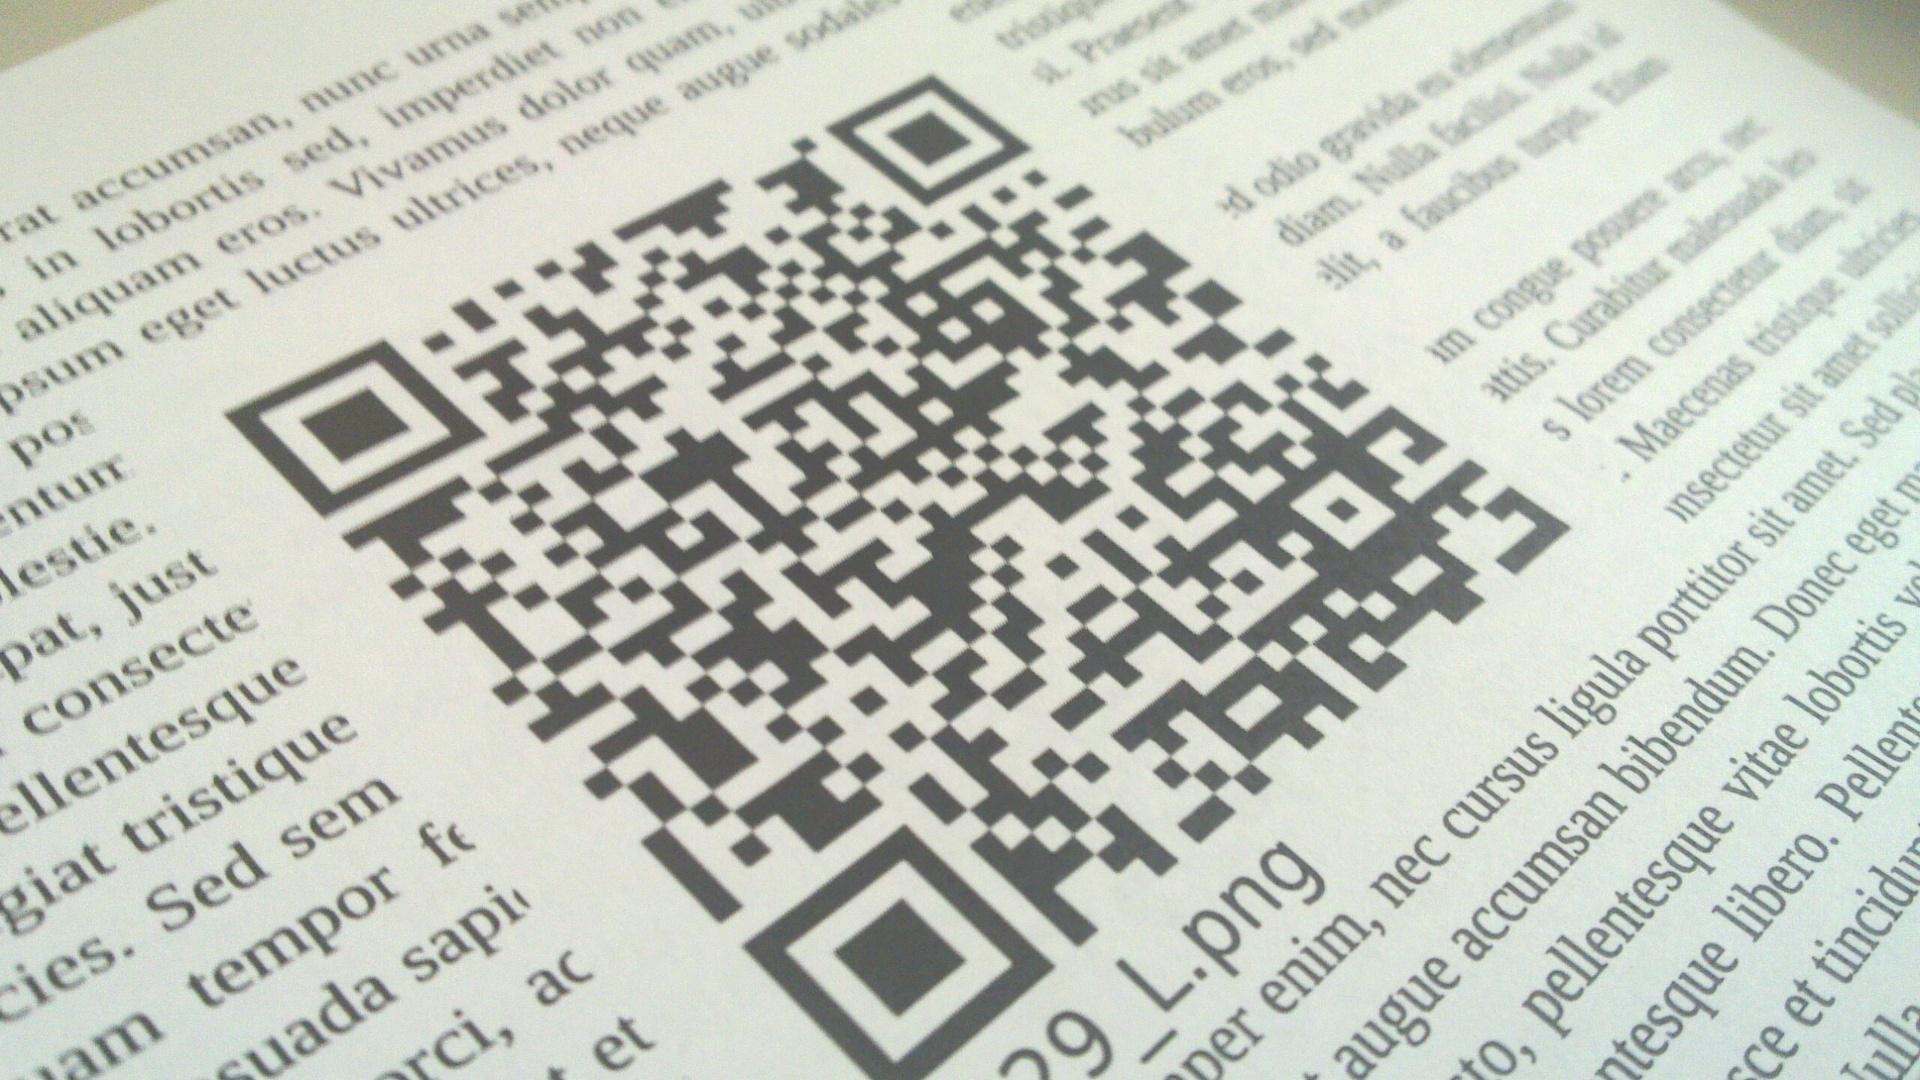Finder pattern: (716, 843, 1063, 1079), (225, 351, 487, 516), (820, 80, 1038, 203)
